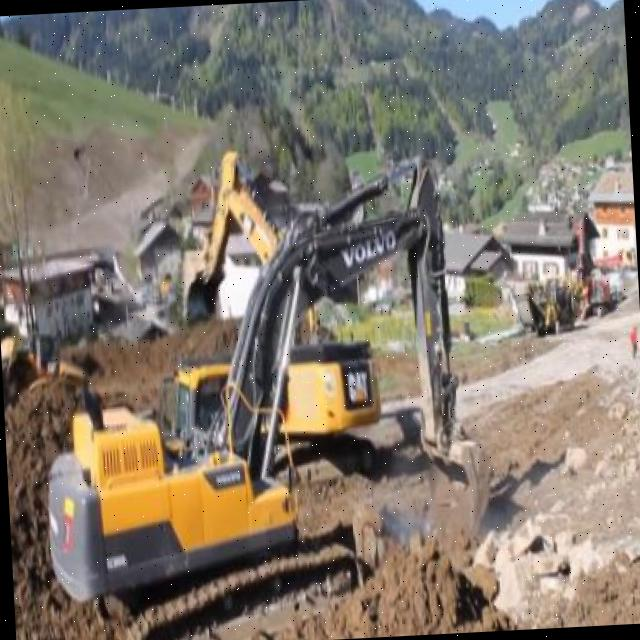Excavator: (29, 157, 502, 640), (173, 140, 385, 485)
